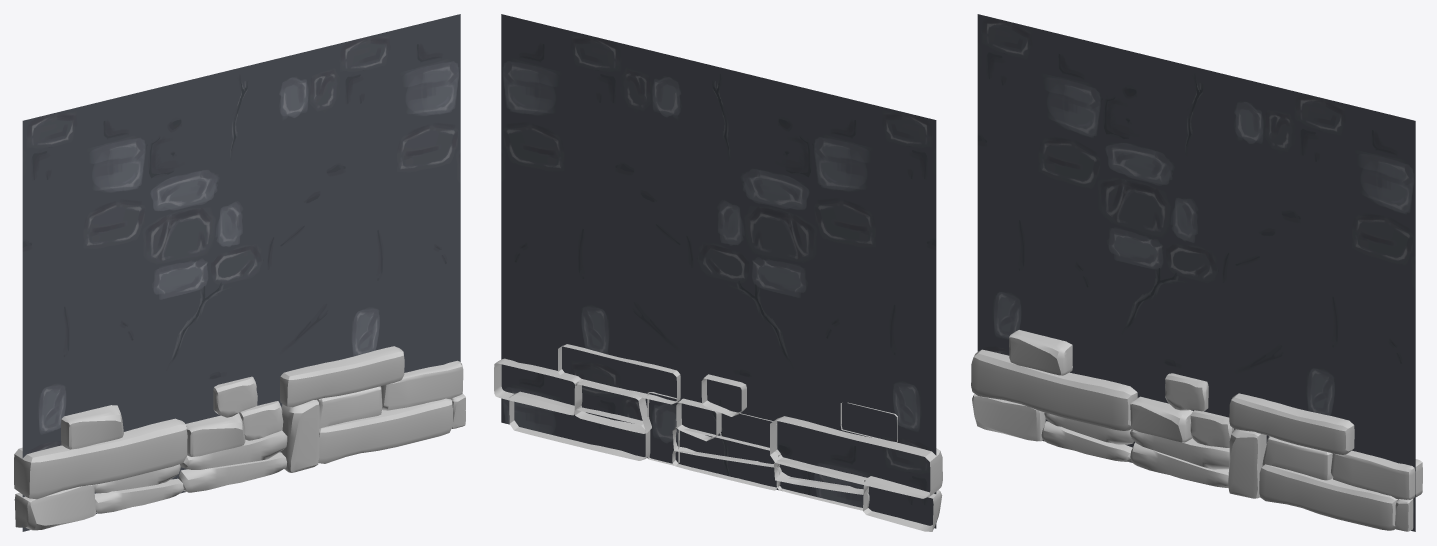
Rendered from wall simple 2.fbx.
The picture shows the model from 3 angles, left to right: view 1: azimuth 30°, elevation 25°; view 2: azimuth 150°, elevation 25°; view 3: azimuth 330°, elevation 25°; orthographic projection.
Visible parts, largest first — view 1: Wall_Simple; view 2: Wall_Simple; view 3: Wall_Simple.
Part boxes in pixels (x1=…): Wall_Simple: x1=14, y1=14, x2=465, y2=531; Wall_Simple: x1=494, y1=14, x2=942, y2=531; Wall_Simple: x1=971, y1=14, x2=1422, y2=531.
Size of the model in its own units: 14.08 by 12.57 by 1.01.
